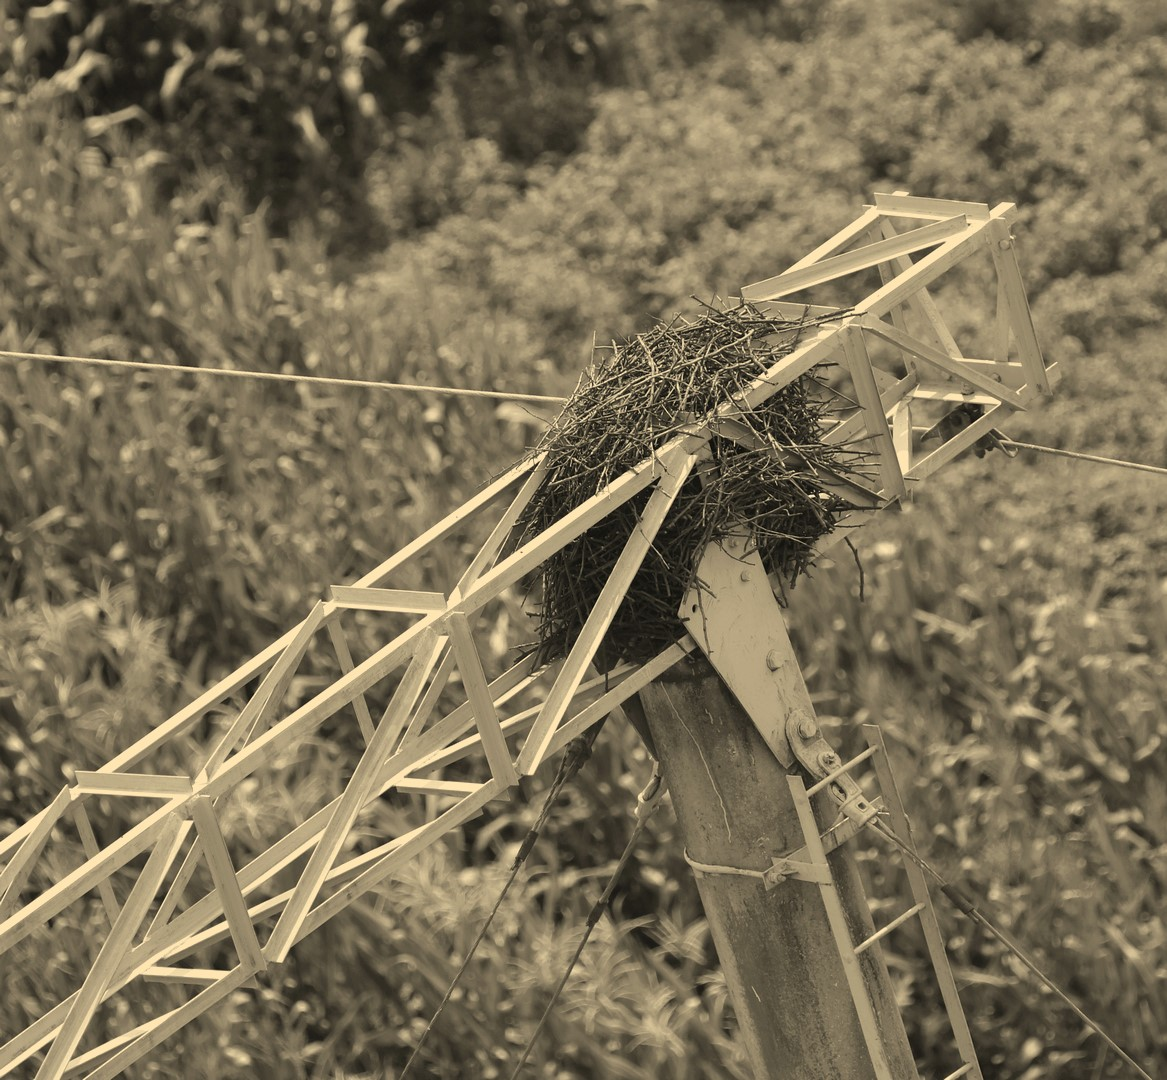niaowo: (513, 305, 863, 696)
